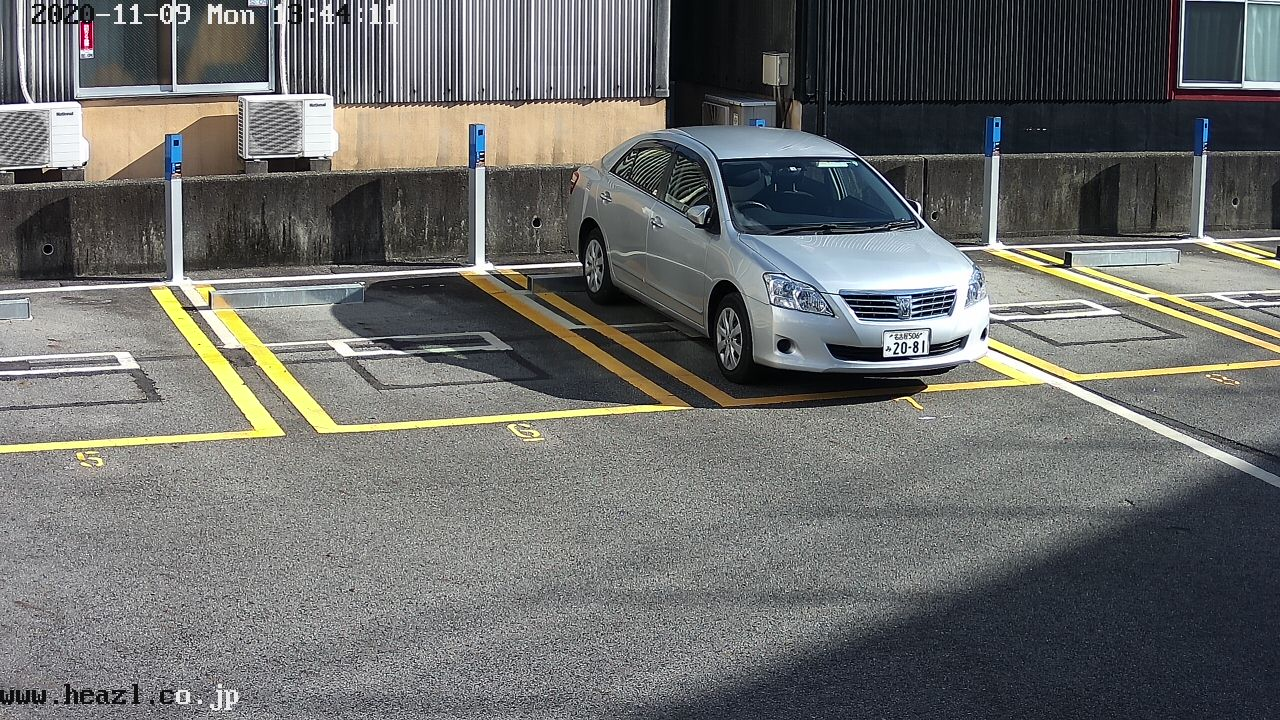number_plate: (882, 330, 929, 361)
